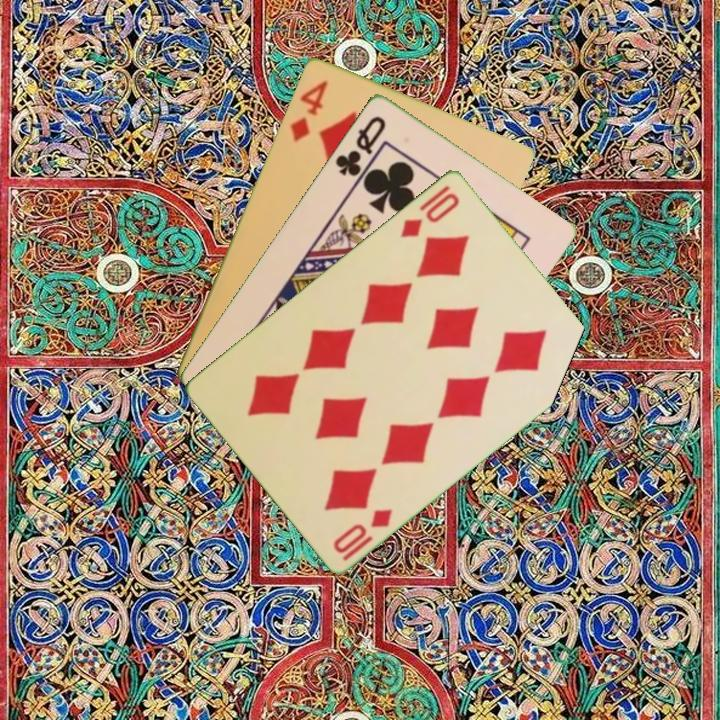10d: (329, 504, 396, 564), (396, 188, 463, 240)
4d: (286, 76, 331, 144)
Qc: (331, 111, 389, 179)
